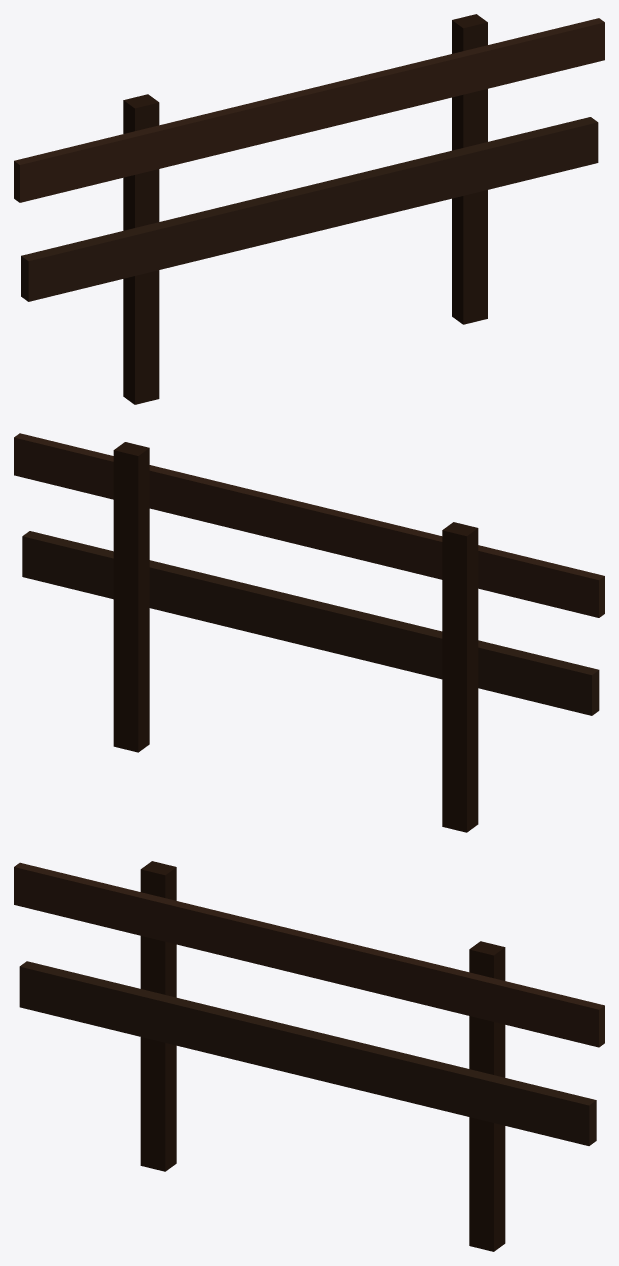
The model's file is Fence01.FBX.
The picture shows the model from 3 angles, top to bottom: view 1: azimuth 30°, elevation 25°; view 2: azimuth 150°, elevation 25°; view 3: azimuth 330°, elevation 25°; orthographic projection.
Parts seen in each view (by area): view 1: LowerBoard, UpperBoard, Posts; view 2: LowerBoard, UpperBoard, Posts; view 3: LowerBoard, UpperBoard, Posts.
Boxes of the visible parts, bbox=[...] form: LowerBoard: bbox=[21, 117, 598, 301]; UpperBoard: bbox=[14, 18, 604, 202]; Posts: bbox=[123, 14, 487, 404]; LowerBoard: bbox=[22, 531, 599, 715]; UpperBoard: bbox=[14, 433, 604, 617]; Posts: bbox=[113, 442, 478, 832]; LowerBoard: bbox=[19, 961, 596, 1145]; UpperBoard: bbox=[14, 862, 604, 1047]; Posts: bbox=[140, 861, 505, 1251].
Size of the model in its own units: 248 by 120 by 13.81.
